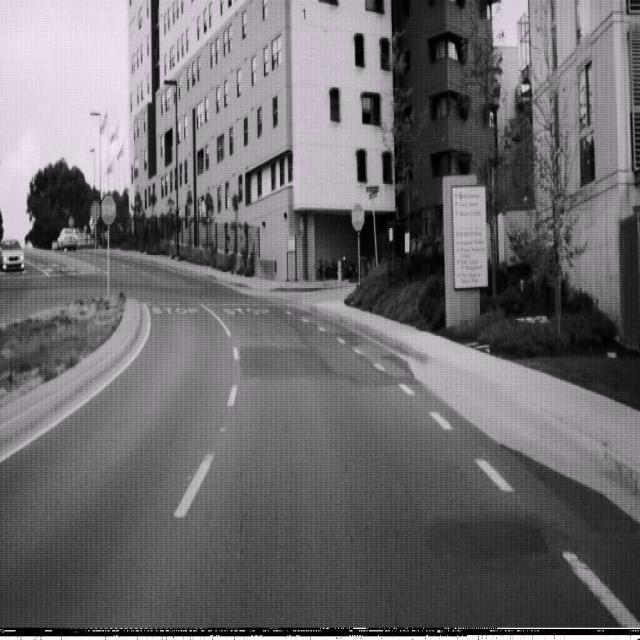stop: (100, 193, 116, 226), (352, 202, 364, 232)
